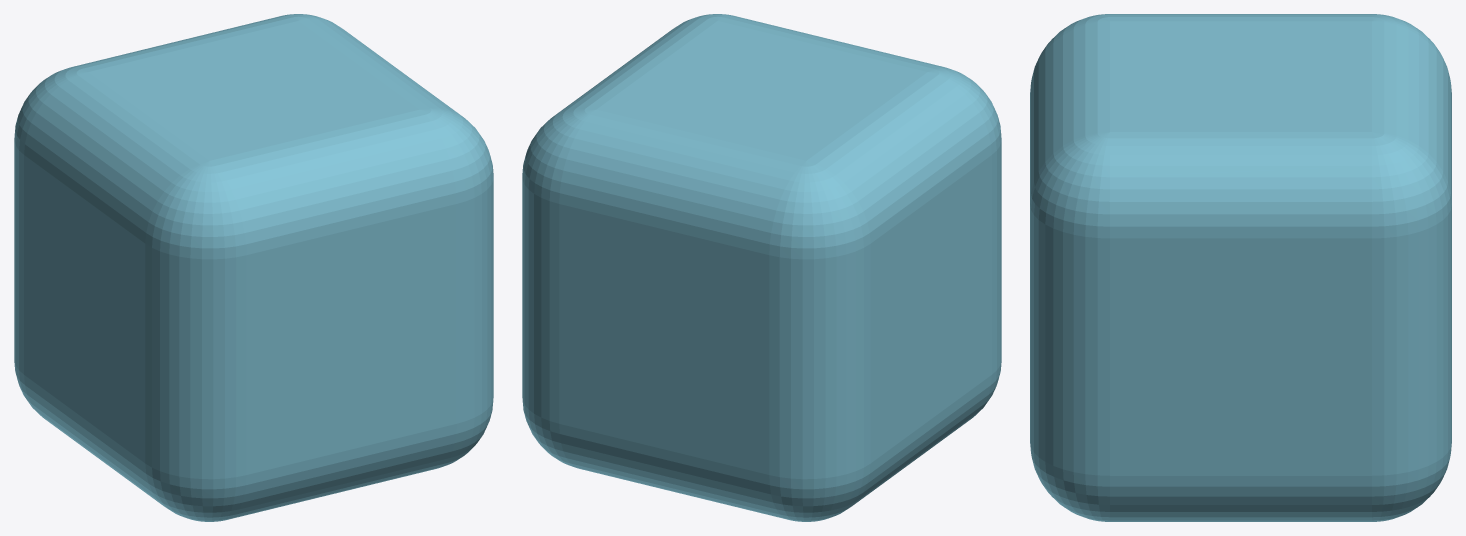
The model's file is partition.glb.
3 renders of one model, left to right at view 1: azimuth 30°, elevation 25°; view 2: azimuth 150°, elevation 25°; view 3: azimuth 270°, elevation 25°, orthographic. The views are drawn at different scales.
Parts seen in each view (by area): view 1: Mesh_Mesh_head_geo.001_lambert2SG.001; view 2: Mesh_Mesh_head_geo.001_lambert2SG.001; view 3: Mesh_Mesh_head_geo.001_lambert2SG.001.
Part boxes in pixels (<box>): Mesh_Mesh_head_geo.001_lambert2SG.001: <box>14,14,493,521</box>; Mesh_Mesh_head_geo.001_lambert2SG.001: <box>522,14,1001,521</box>; Mesh_Mesh_head_geo.001_lambert2SG.001: <box>1030,14,1451,521</box>.
Bounding box in the file's own units: 20 × 20 × 20.
